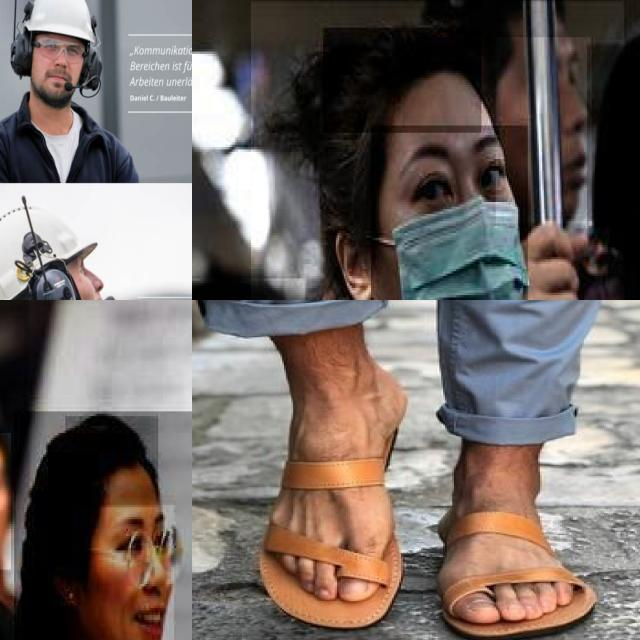Ear-protection: (2, 0, 110, 111), (0, 203, 106, 300)
No_Ear-Protection: (333, 224, 375, 300)
No_Glasses: (386, 127, 518, 213)
Sandals: (257, 358, 406, 626), (430, 453, 598, 640)
face_mask: (371, 125, 528, 300)
face_nomask: (496, 37, 592, 226), (79, 504, 174, 640)
glasses: (124, 518, 188, 590)
hand_noglove: (509, 217, 582, 300)
head_nohelmet: (323, 28, 483, 135), (587, 44, 640, 232), (65, 416, 158, 507)
person: (250, 1, 625, 300), (14, 411, 192, 640)
